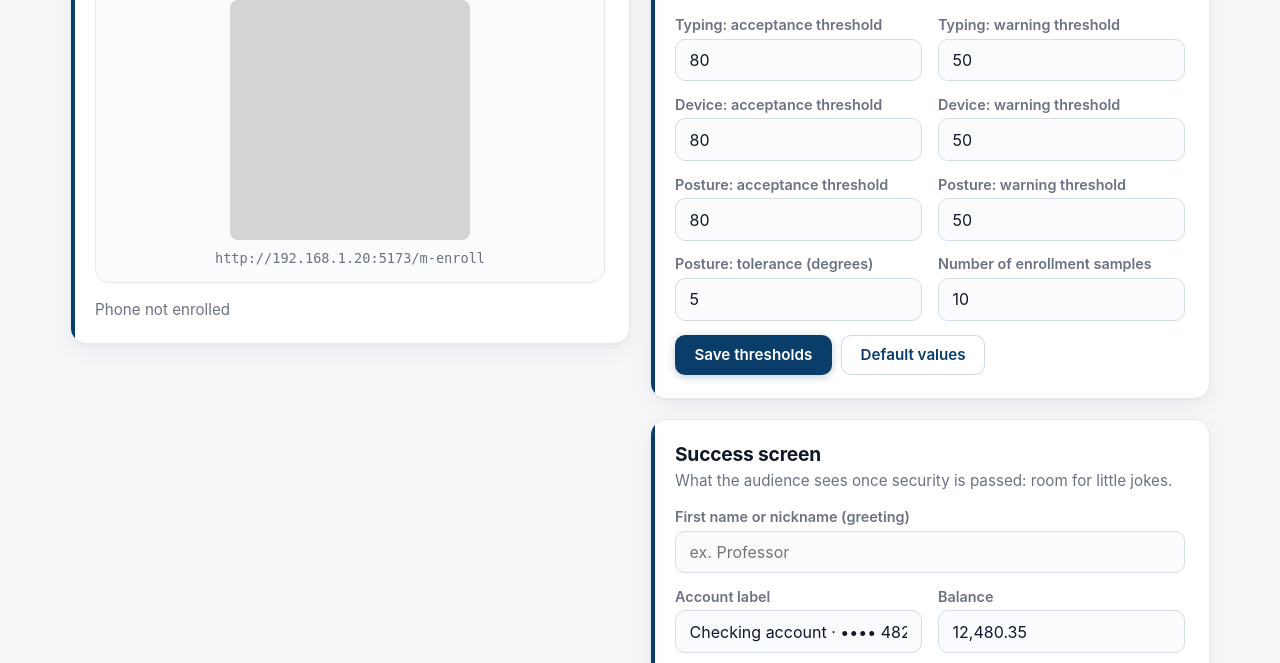
Test: Config › affiche l erreur 400 du serveur
(page scrolled)
What coordinates should you click on to do the following:
click the button "Save thresholds"
I would click on:
 (753, 355)
Its box is [675,335,832,375].
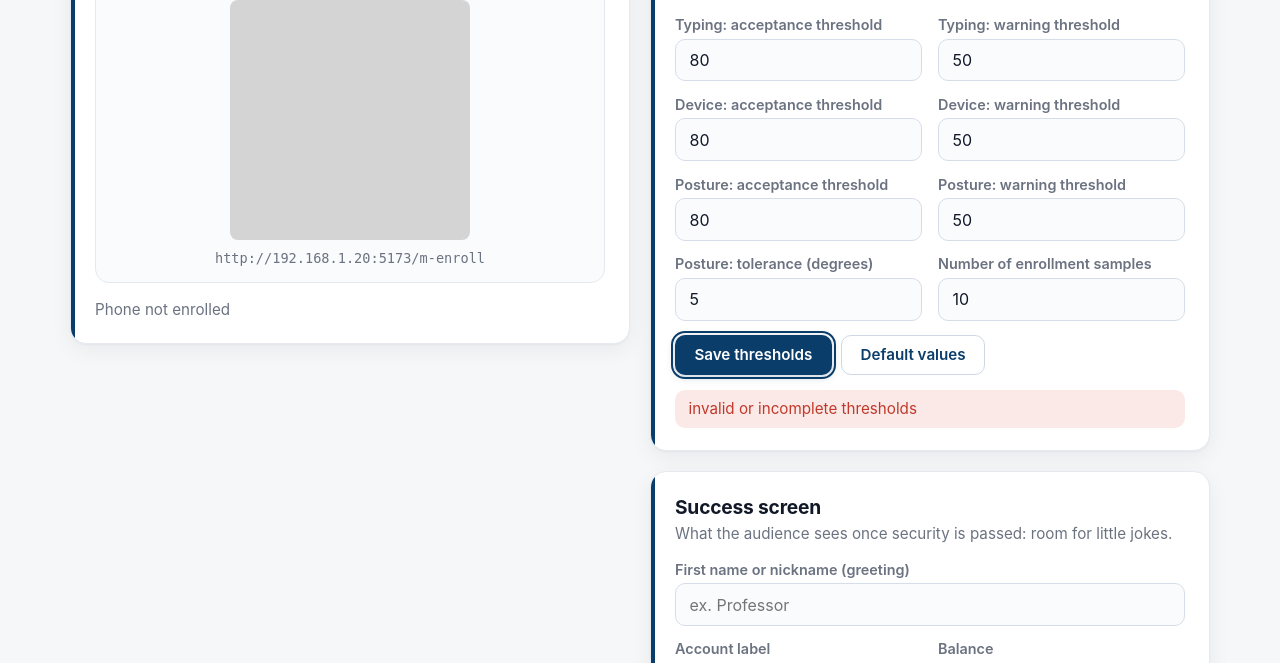
Now the text "invalid or incomplete thresholds" is shown, box [675,390,1185,428]
